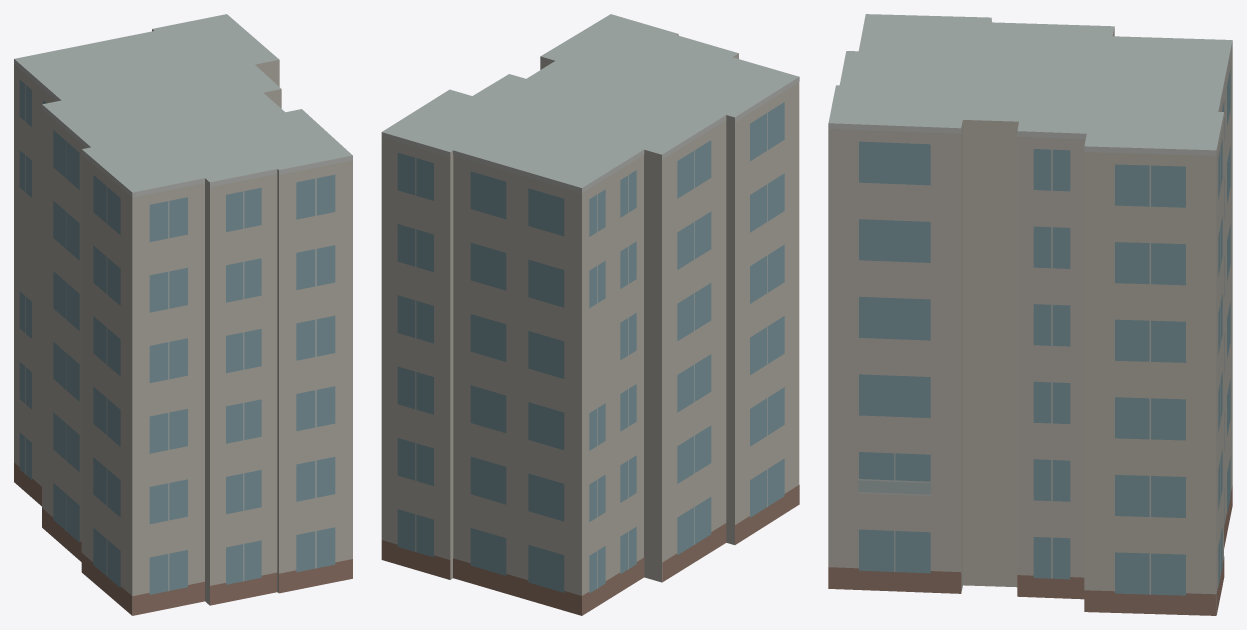
File: survey-upis-32616695.glb
The picture shows the model from 3 angles, left to right: view 1: azimuth 30°, elevation 25°; view 2: azimuth 150°, elevation 25°; view 3: azimuth 270°, elevation 25°; orthographic projection. The views are drawn at different scales.
Visible parts, largest first — view 1: survey-upis-32616695.tmp; view 2: survey-upis-32616695.tmp; view 3: survey-upis-32616695.tmp.
Boxes of the visible parts, left/top/right/bottom form: survey-upis-32616695.tmp: left=14, top=14, right=352, bottom=615; survey-upis-32616695.tmp: left=381, top=14, right=799, bottom=615; survey-upis-32616695.tmp: left=828, top=14, right=1232, bottom=615.
Size of the model in its own units: 12.95 by 20.6 by 16.22.
